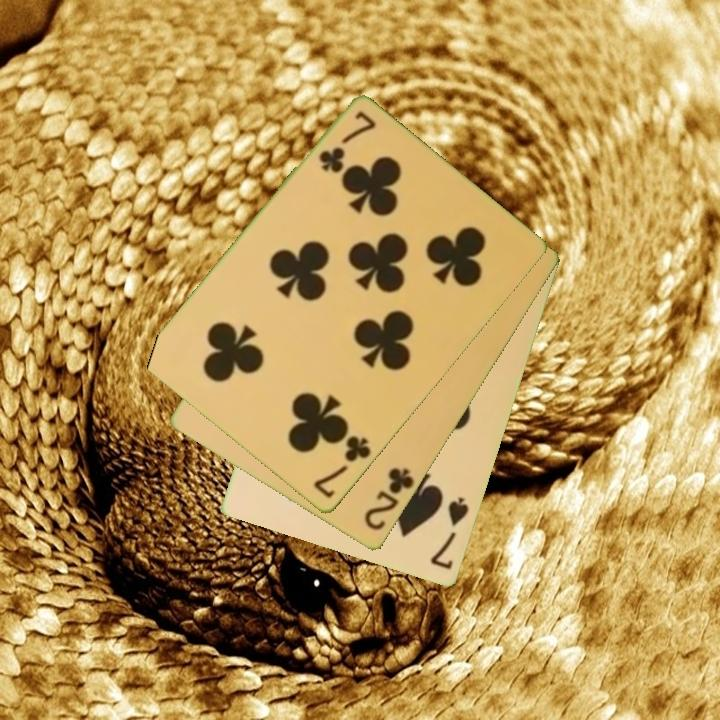2c: (360, 464, 418, 534)
7c: (310, 432, 374, 502), (315, 107, 379, 177)
7s: (427, 494, 472, 573)
